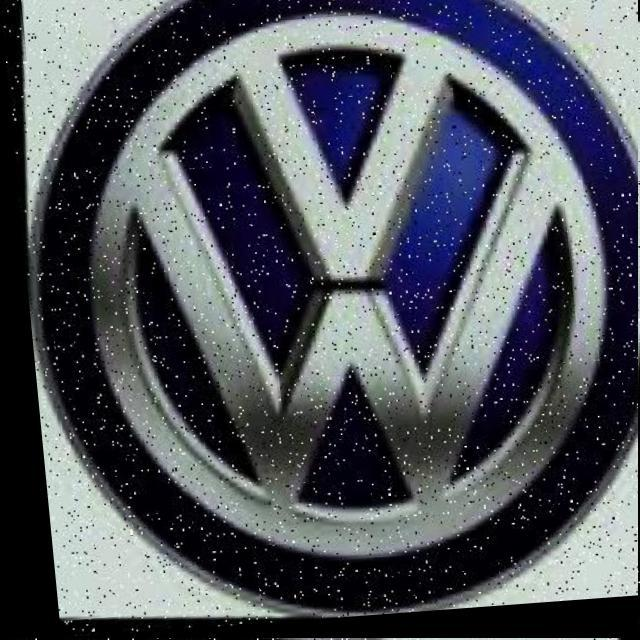Volkswagen: (0, 0, 638, 638)
